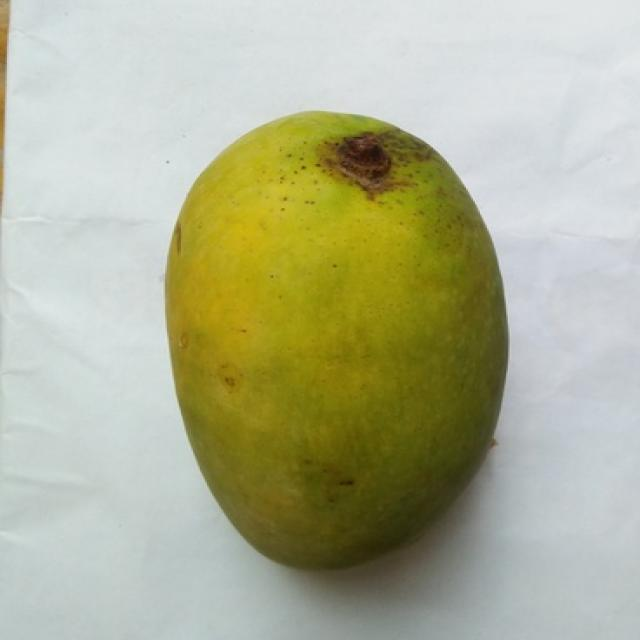Mango: (165, 111, 506, 567)
